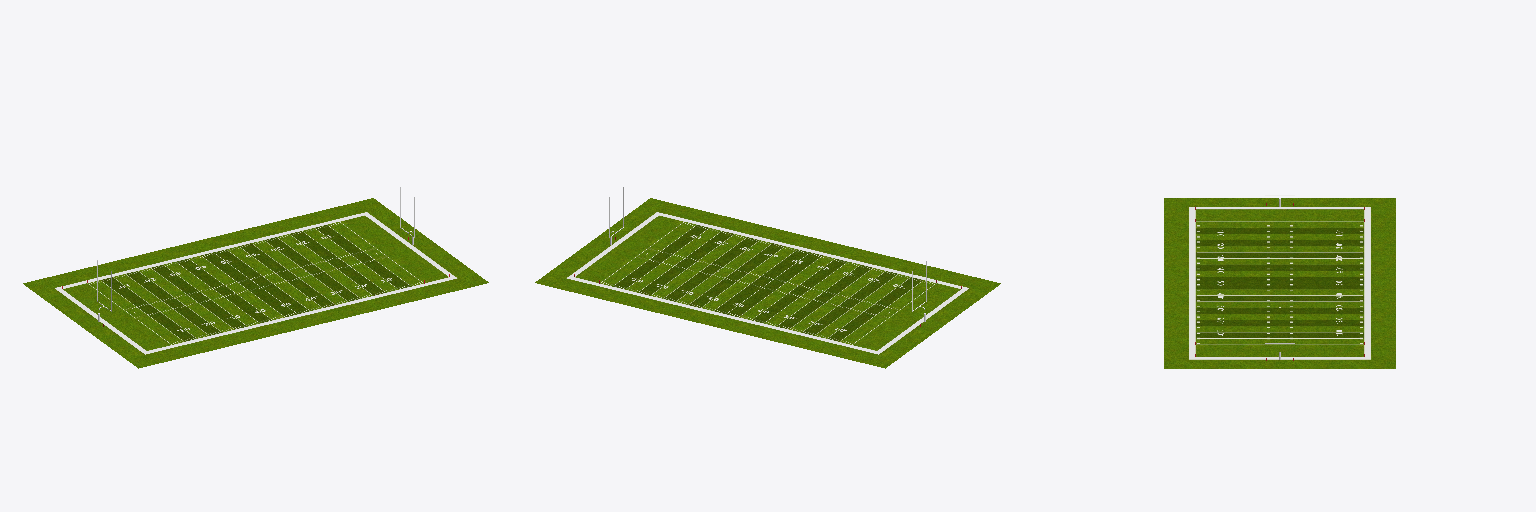
3 renders of one model, left to right at view 1: azimuth 30°, elevation 25°; view 2: azimuth 150°, elevation 25°; view 3: azimuth 270°, elevation 25°, orthographic.
Visible parts, largest first — view 1: nfl_football_field; view 2: nfl_football_field; view 3: nfl_football_field.
Part boxes in pixels (bbox=[...]): nfl_football_field: bbox=[23, 198, 488, 368]; nfl_football_field: bbox=[535, 198, 1000, 368]; nfl_football_field: bbox=[1164, 198, 1395, 368].
Bounding box in the file's own units: 8.94 × 1.33 × 5.12.
Materials: 4 (2 with a texture image).